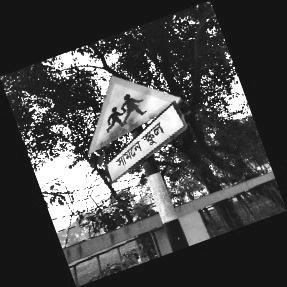School-in-front: (87, 75, 189, 195)
